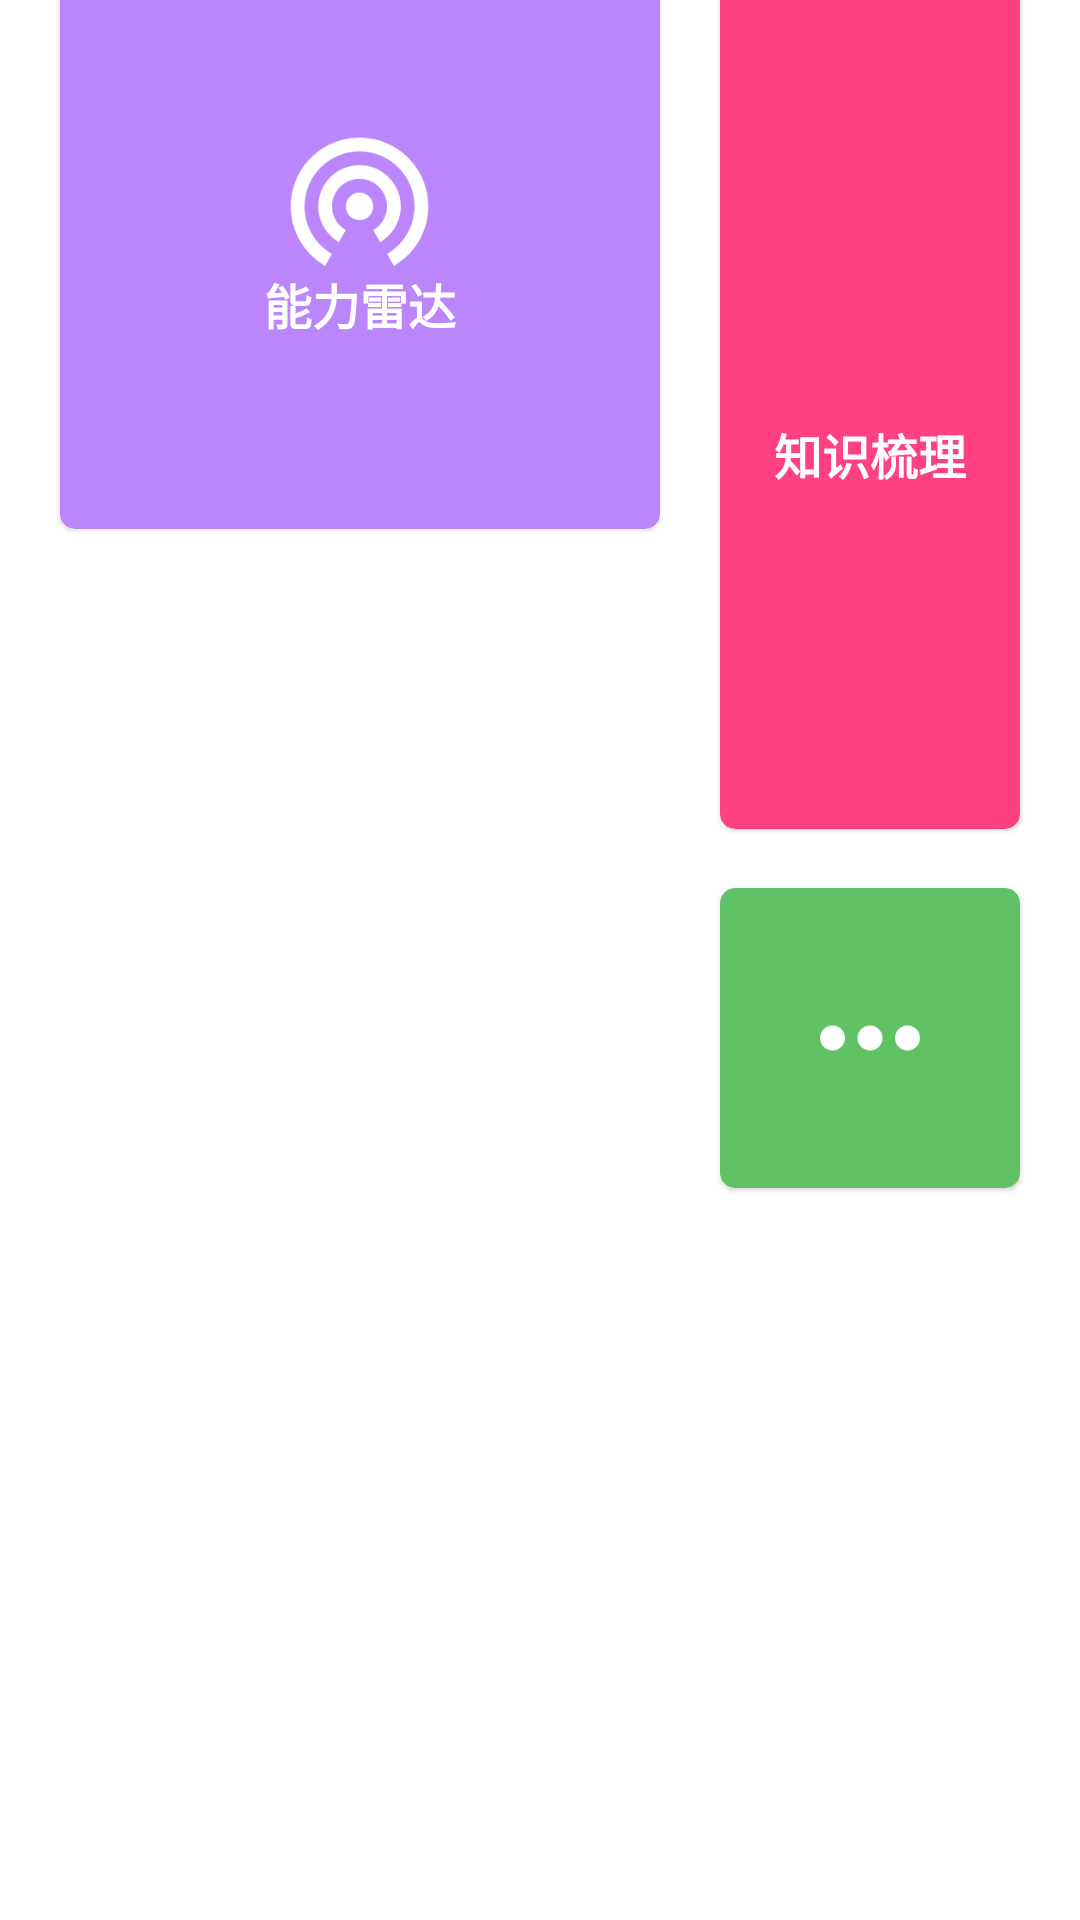

Icon click points for this 1080px×1920px phone screenshot, format (x,y):
more horiz: (870,1038)
wifi tethering: (359,201)
